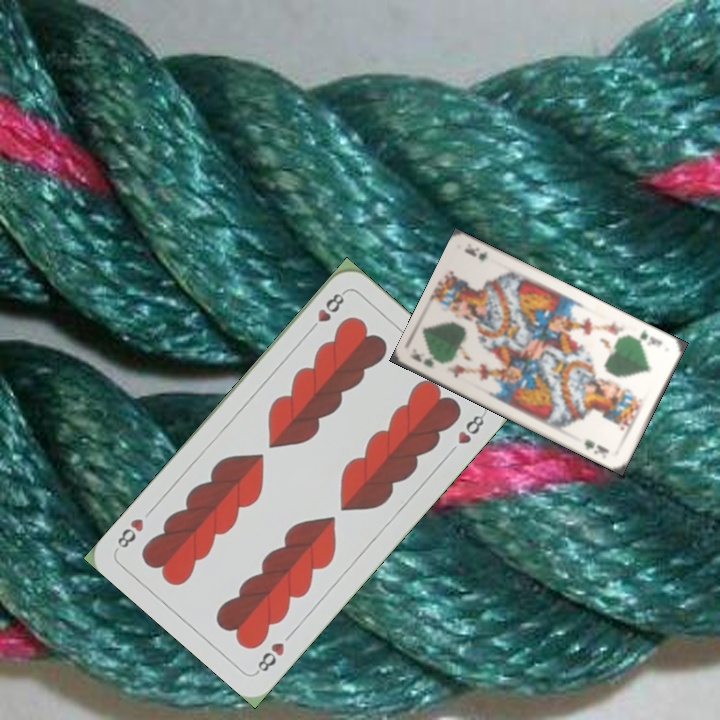GK: (628, 325, 665, 350), (408, 349, 436, 369)
H8: (304, 288, 348, 336), (252, 638, 287, 676)
